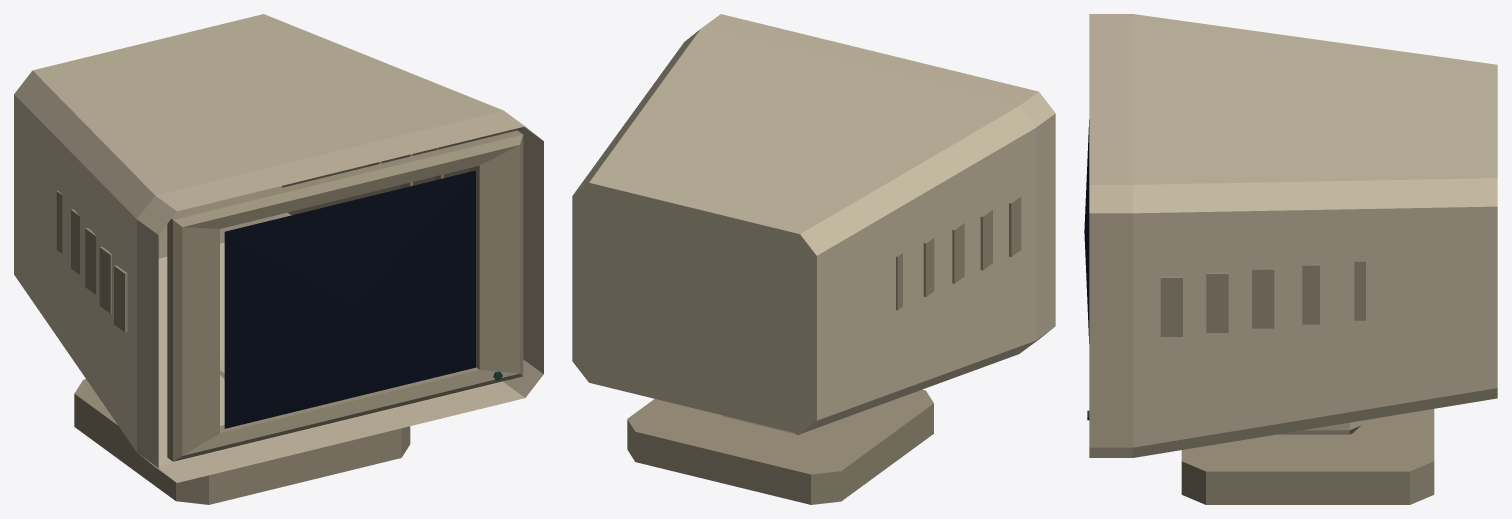
The model's file is terminal_crt.glb.
The picture shows the model from 3 angles, left to right: view 1: azimuth 30°, elevation 25°; view 2: azimuth 150°, elevation 25°; view 3: azimuth 270°, elevation 25°; orthographic projection. The views are drawn at different scales.
Parts seen in each view (by area): view 1: Carcasa, Cristal CRT, Bisel, Base, Ranura ventilación, Ranura ventilación.001, Ranura ventilación.002; view 2: Carcasa, Base, Ranura ventilación, Ranura ventilación.001, Ranura ventilación.002, Ranura ventilación.003; view 3: Carcasa, Base, Ranura ventilación.005, Ranura ventilación.006, Ranura ventilación.007, Ranura ventilación.008, Cristal CRT, Ranura ventilación.009, Articulación.
Part boxes in pixels (x1=…): Carcasa: x1=14, y1=14, x2=543, y2=482; Cristal CRT: x1=224, y1=170, x2=475, y2=428; Bisel: x1=167, y1=130, x2=523, y2=461; Base: x1=74, y1=379, x2=410, y2=504; Ranura ventilación: x1=114, y1=265, x2=127, y2=332; Ranura ventilación.001: x1=99, y1=246, x2=111, y2=313; Ranura ventilación.002: x1=85, y1=228, x2=96, y2=294; Carcasa: x1=572, y1=14, x2=1055, y2=433; Base: x1=627, y1=389, x2=933, y2=504; Ranura ventilación: x1=1009, y1=195, x2=1021, y2=256; Ranura ventilación.001: x1=980, y1=209, x2=992, y2=270; Ranura ventilación.002: x1=952, y1=223, x2=964, y2=283; Ranura ventilación.003: x1=923, y1=238, x2=934, y2=296; Carcasa: x1=1089, y1=14, x2=1497, y2=457; Base: x1=1181, y1=409, x2=1434, y2=504; Ranura ventilación.005: x1=1160, y1=276, x2=1182, y2=336; Ranura ventilación.006: x1=1206, y1=272, x2=1228, y2=332; Ranura ventilación.007: x1=1252, y1=268, x2=1274, y2=328; Ranura ventilación.008: x1=1302, y1=264, x2=1319, y2=324; Cristal CRT: x1=1084, y1=119, x2=1089, y2=343; Ranura ventilación.009: x1=1354, y1=260, x2=1365, y2=320; Articulación: x1=1277, y1=421, x2=1361, y2=434.
Size of the model in its own units: 0.46 by 0.395 by 0.425.
